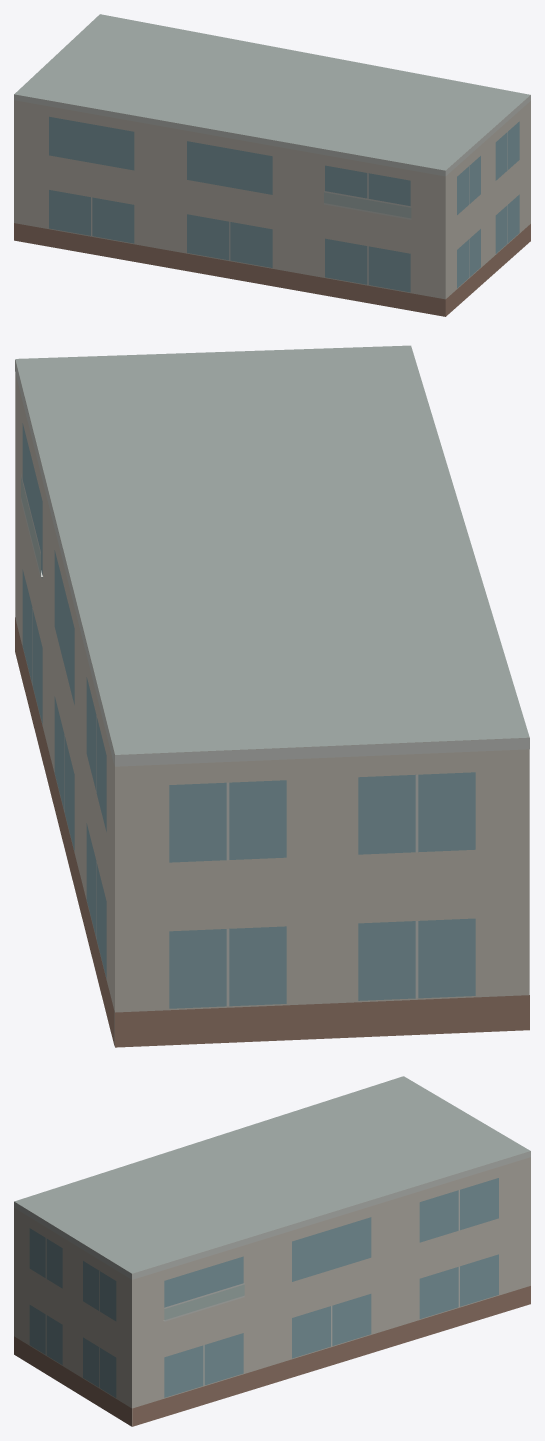
File: survey-upis-32625958.glb
The picture shows the model from 3 angles, top to bottom: view 1: azimuth 30°, elevation 25°; view 2: azimuth 150°, elevation 25°; view 3: azimuth 270°, elevation 25°; orthographic projection. The views are drawn at different scales.
Parts seen in each view (by area): view 1: survey-upis-32625958.tmp; view 2: survey-upis-32625958.tmp; view 3: survey-upis-32625958.tmp.
Part boxes in pixels (left/top/right/bottom): survey-upis-32625958.tmp: left=14, top=14, right=530, bottom=316; survey-upis-32625958.tmp: left=15, top=345, right=529, bottom=1047; survey-upis-32625958.tmp: left=14, top=1076, right=530, bottom=1426.
Size of the model in its own units: 16.91 by 6.1 by 18.68.
